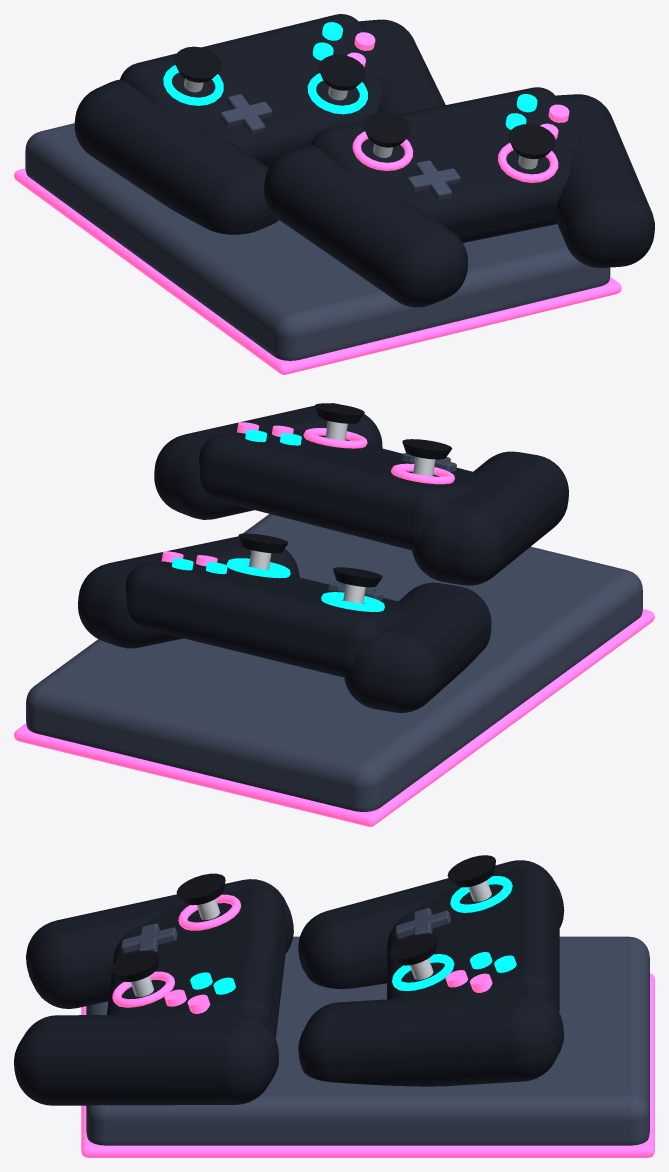
The model's file is atelier-gaming-controller-dock-cyber.glb.
3 views of the same model, one above another, from view 1: azimuth 30°, elevation 25°; view 2: azimuth 150°, elevation 25°; view 3: azimuth 270°, elevation 25° (orthographic). The views are drawn at different scales.
Bounding box in the file's own units: 0.1916 × 0.0809 × 0.2503.
